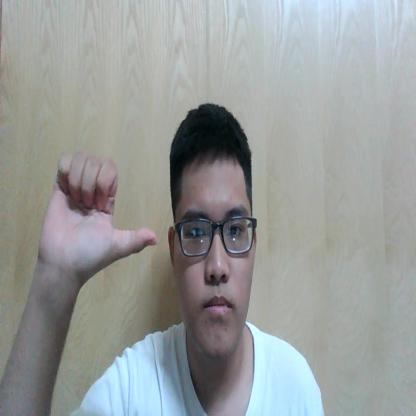left: (40, 150, 159, 276)
